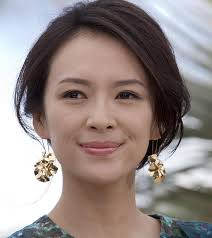asian_female: (32, 20, 166, 182)
